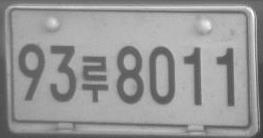0: (148, 45, 176, 106)
1: (214, 46, 243, 106), (182, 46, 209, 106)
3: (49, 44, 77, 103)
8: (115, 44, 144, 105)
9: (17, 43, 45, 101)
루: (80, 54, 109, 103)
